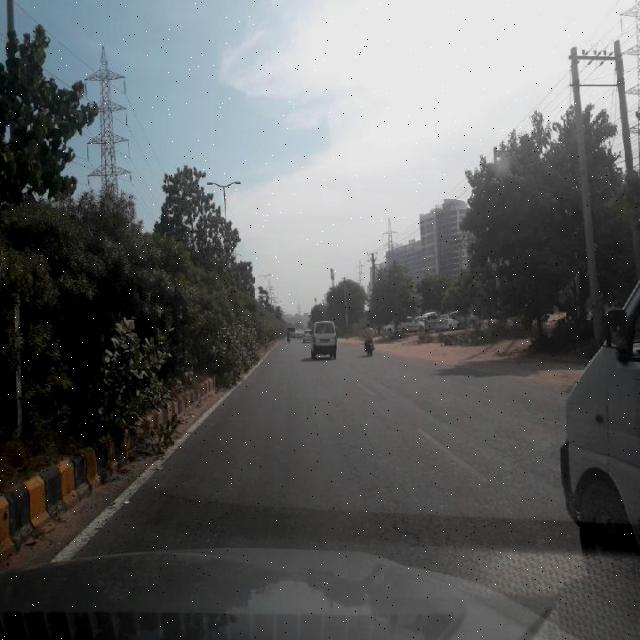D20: (323, 346, 553, 594), (116, 401, 266, 547)
D44: (406, 415, 495, 485)
